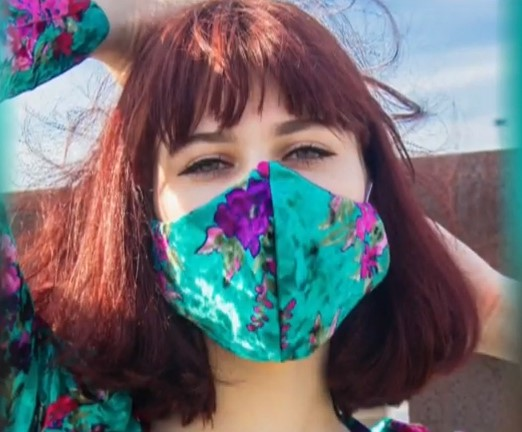face_with_mask: (112, 5, 392, 366)
